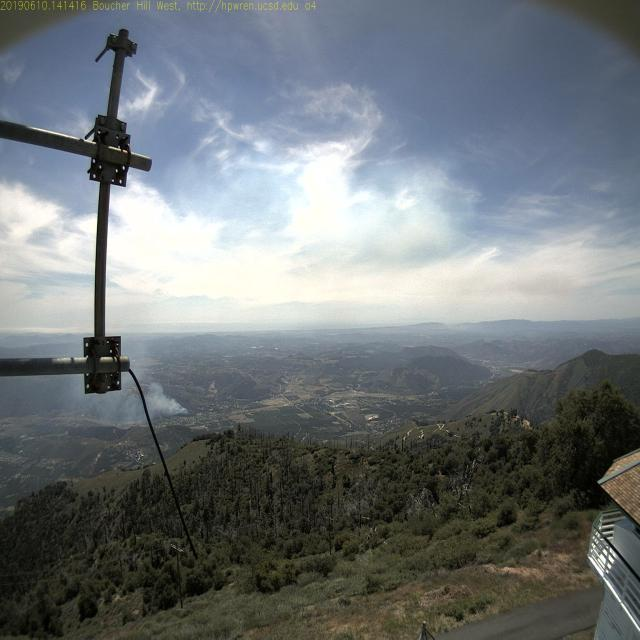smoke: (171, 388, 203, 428)
